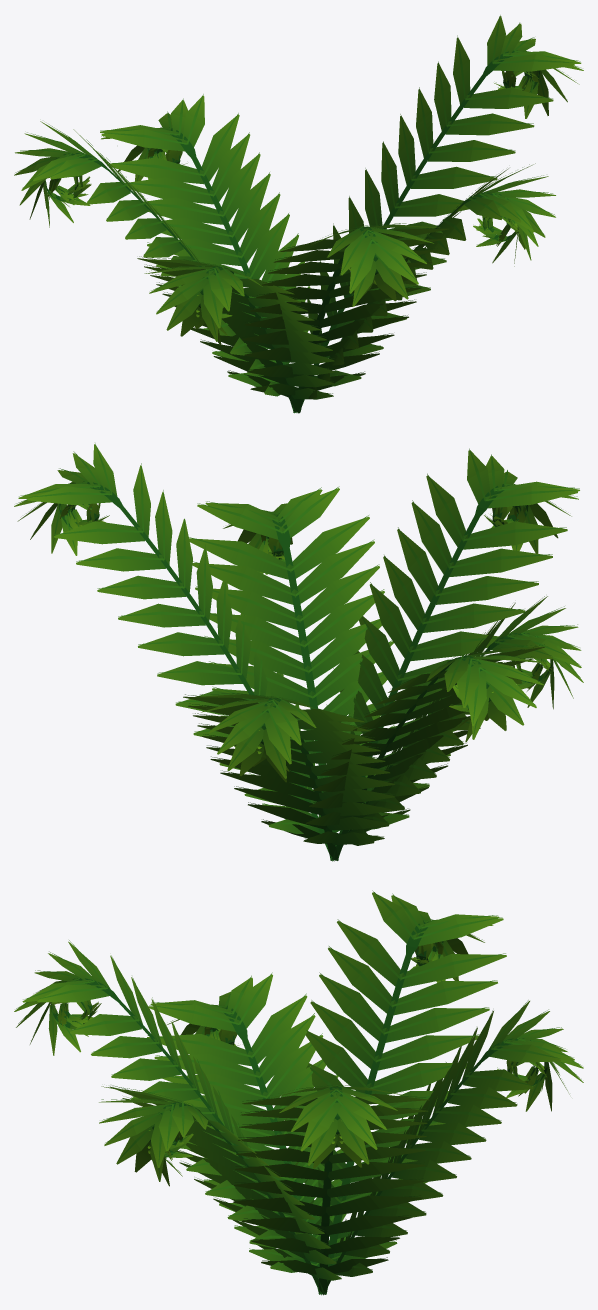
The model's file is fern.glb.
3 renders of one model, top to bottom at view 1: azimuth 30°, elevation 25°; view 2: azimuth 150°, elevation 25°; view 3: azimuth 270°, elevation 25°, orthographic. The views are drawn at different scales.
Parts seen in each view (by area): view 1: fern; view 2: fern; view 3: fern.
Part boxes in pixels (left/top/right/bottom): fern: left=14, top=15, right=583, bottom=413; fern: left=14, top=443, right=583, bottom=861; fern: left=14, top=890, right=583, bottom=1295.
Bounding box in the file's own units: 2.61 × 1.51 × 2.4.
